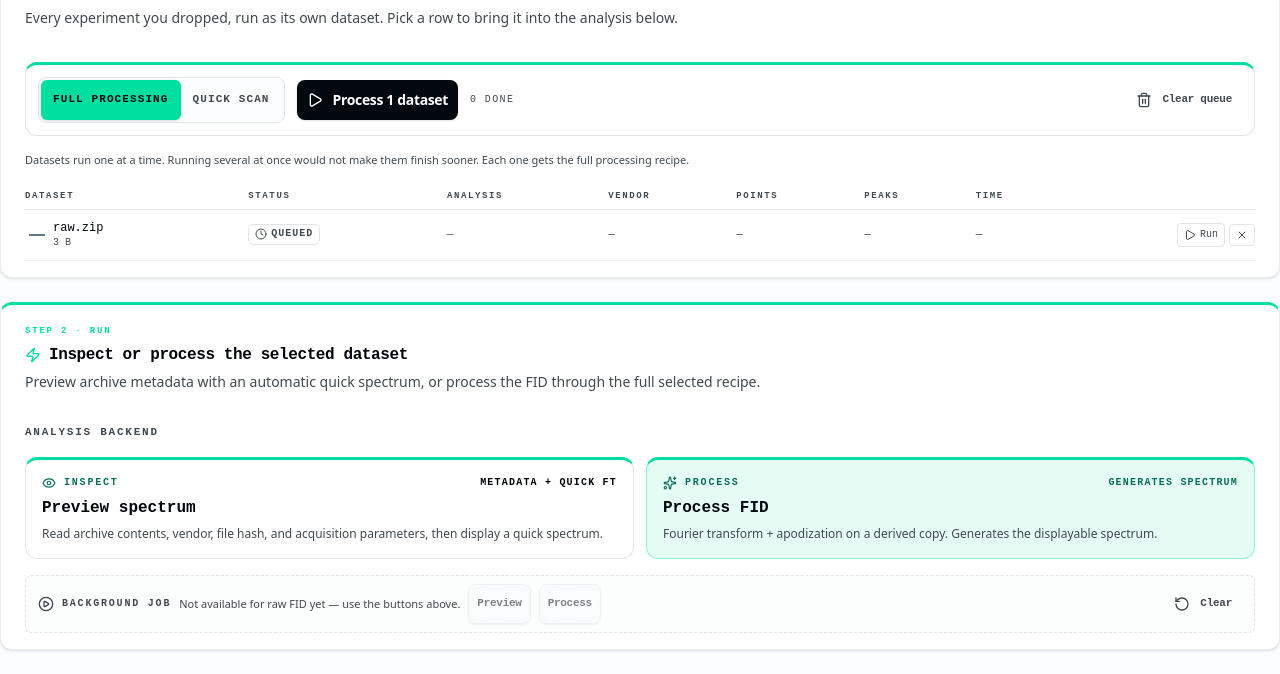
Test case: SpectraCheck preview rendering › raw FID preview automatically generates and displays a quick spectrum
The width and height of the screenshot is (1280, 674).
Earlier steps of the test are not shown.
(page scrolled)
What coordinates should you click on to do the following:
click the button "Preview spectrum"
I would click on:
 (91, 482)
Its box is [25,457,634,559].
(page scrolled)
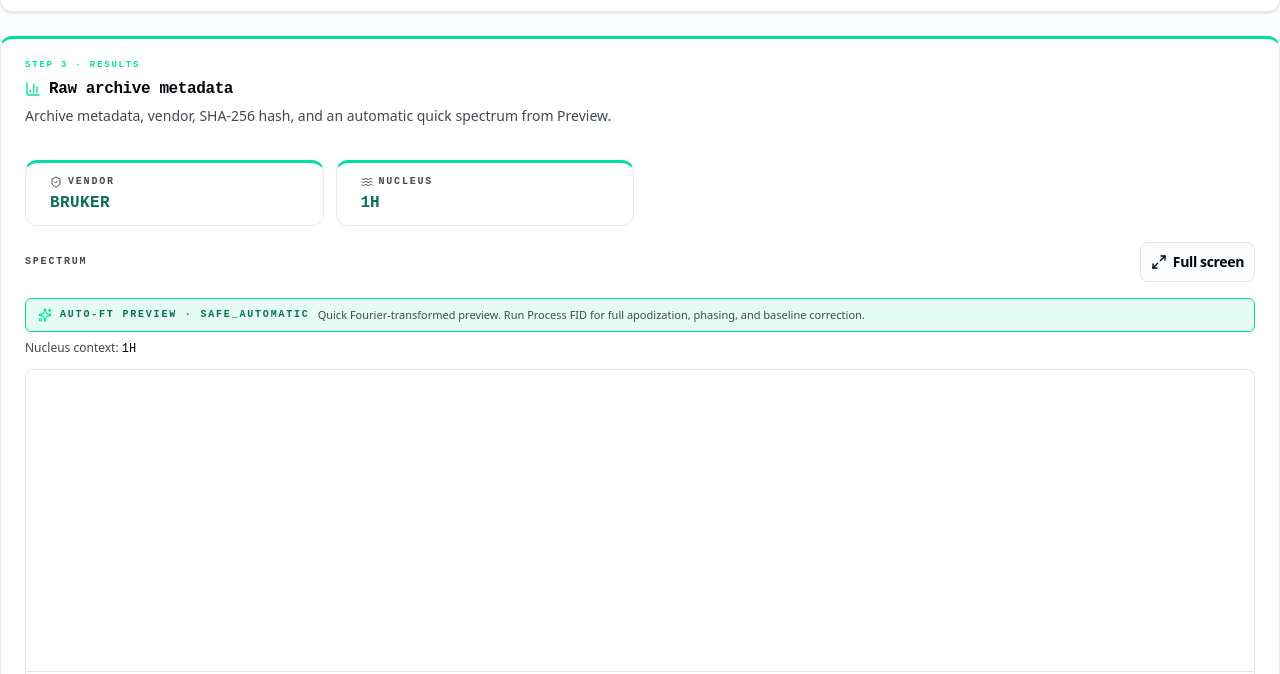
Result: the text "Auto-FT preview · safe_automatic" is shown at [60,308,310,322]
